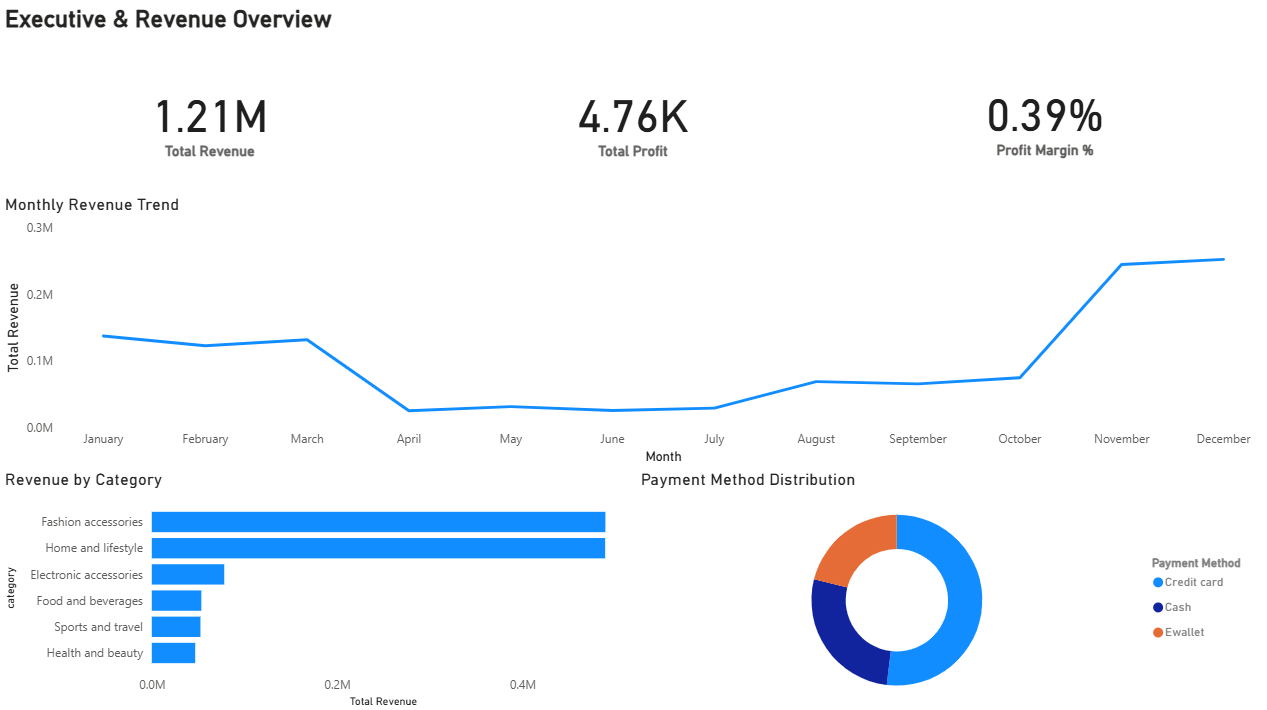

This screenshot's page, from the dashboard's own definition file:
{"tool":"powerbi","page":{"name":"Executive & Revenue Overview","canvas":[1280,720],"ordinal":0},"visuals":[{"type":"card","fields":{"Values":["public vw_walmart_clean.Total Revenue"]},"box":[0,43.3,423.3,155],"z":0},{"type":"card","fields":{"Values":["public vw_walmart_clean.Total Profit"]},"box":[416.7,43.3,445,155],"z":1000},{"type":"card","fields":{"Values":["public vw_walmart_clean.Profit Margin %"]},"box":[830,43.3,450,153.3],"z":2000},{"type":"lineChart","title":"Monthly Revenue Trend","fields":{"Category":["public vw_walmart_clean.sale_date.Variation.Date Hierarchy.Month"],"Y":["public vw_walmart_clean.Total Revenue"]},"box":[0,198.3,1281.7,276.7],"z":3000},{"type":"clusteredBarChart","title":"Revenue by Category","fields":{"Category":["public vw_walmart_clean.category"],"Y":["public vw_walmart_clean.Total Revenue"]},"box":[0,475,640,245],"z":4000},{"type":"donutChart","title":"Payment Method Distribution","fields":{"Category":["public vw_walmart_clean.payment_method"],"Y":["Sum(public vw_walmart_clean.invoice_id)"]},"box":[641.7,475,638.3,245],"z":5000},{"type":"textbox","box":[0,1.7,1280,41.7],"z":5001}]}

Visuals, with their boxes in screenshot pixels (x1, y1, x2, y2), scaled from the page's 1280x720 canvas onto the 1267x710 screenshot:
card - public vw_walmart_clean.Total Revenue: 0,43,419,196
card - public vw_walmart_clean.Total Profit: 412,43,853,196
card - public vw_walmart_clean.Profit Margin %: 822,43,1266,194
"Monthly Revenue Trend" lineChart: 0,196,1266,468
"Revenue by Category" clusteredBarChart: 0,468,634,709
"Payment Method Distribution" donutChart: 635,468,1266,709
textbox: 0,2,1266,43
